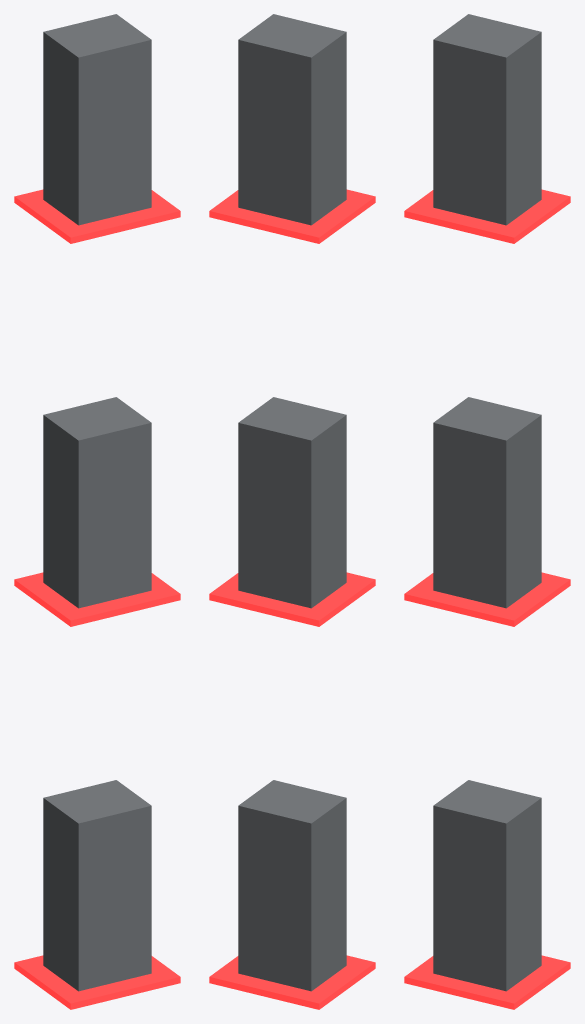
File: FilingCabinet_Topple.fbx
3 renders of one model, left to right at view 1: azimuth 30°, elevation 25°; view 2: azimuth 150°, elevation 25°; view 3: azimuth 330°, elevation 25°, orthographic.
Visible parts, largest first — view 1: F2_File_Cabinet, F4_File_Cabinet, F3_File_Cabinet, F3_File_Glow, F4_File_Glow, F2_File_Glow; view 2: F2_File_Cabinet, F4_File_Cabinet, F3_File_Cabinet, F3_File_Glow, F4_File_Glow, F2_File_Glow; view 3: F2_File_Cabinet, F4_File_Cabinet, F3_File_Cabinet, F3_File_Glow, F4_File_Glow, F2_File_Glow.
Part boxes in pixels (left/top/right/bottom): F2_File_Cabinet: left=43, top=780, right=151, bottom=991; F4_File_Cabinet: left=43, top=14, right=151, bottom=225; F3_File_Cabinet: left=43, top=397, right=151, bottom=608; F3_File_Glow: left=14, top=572, right=180, bottom=626; F4_File_Glow: left=14, top=189, right=180, bottom=243; F2_File_Glow: left=14, top=955, right=180, bottom=1009; F2_File_Cabinet: left=238, top=780, right=346, bottom=991; F4_File_Cabinet: left=238, top=14, right=346, bottom=225; F3_File_Cabinet: left=238, top=397, right=346, bottom=608; F3_File_Glow: left=209, top=572, right=375, bottom=626; F4_File_Glow: left=209, top=189, right=375, bottom=243; F2_File_Glow: left=209, top=955, right=375, bottom=1009; F2_File_Cabinet: left=433, top=780, right=541, bottom=991; F4_File_Cabinet: left=433, top=14, right=541, bottom=225; F3_File_Cabinet: left=433, top=397, right=541, bottom=608; F3_File_Glow: left=404, top=572, right=570, bottom=626; F4_File_Glow: left=404, top=189, right=570, bottom=243; F2_File_Glow: left=404, top=955, right=570, bottom=1009.
Size of the model in its own units: 0.9 by 7.4 by 0.8.
